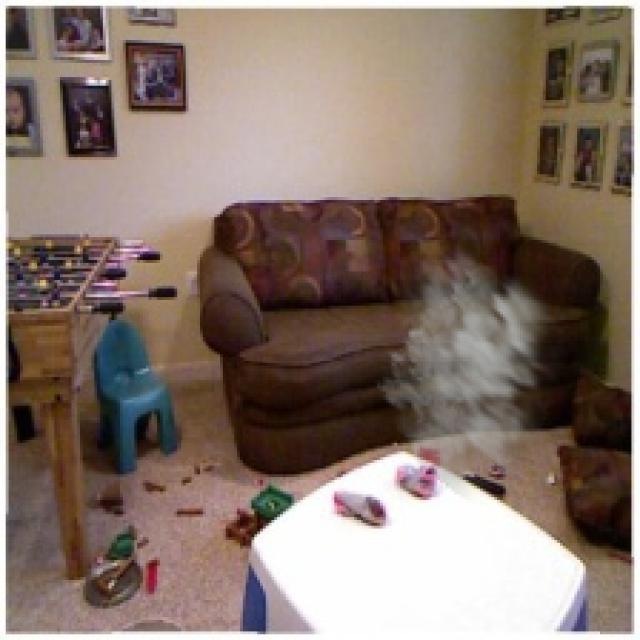Smoke: (374, 237, 580, 506)
